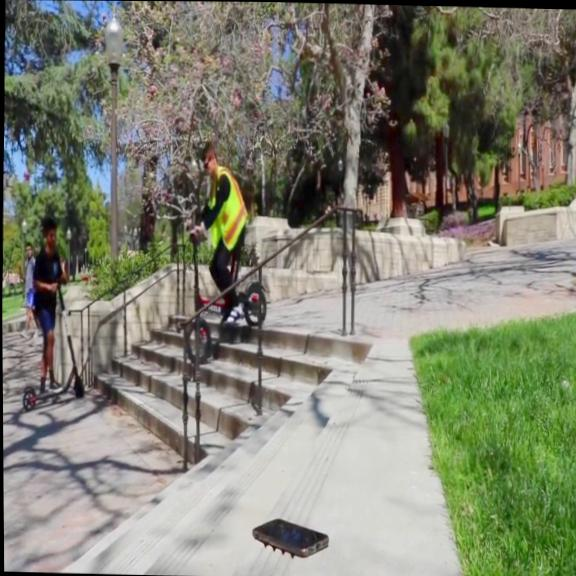safety_vest: (207, 166, 248, 250)
